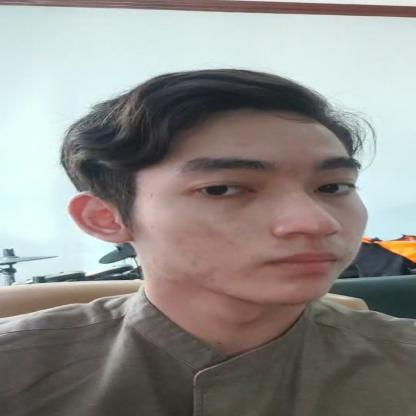Palm: (16, 42, 415, 332)
